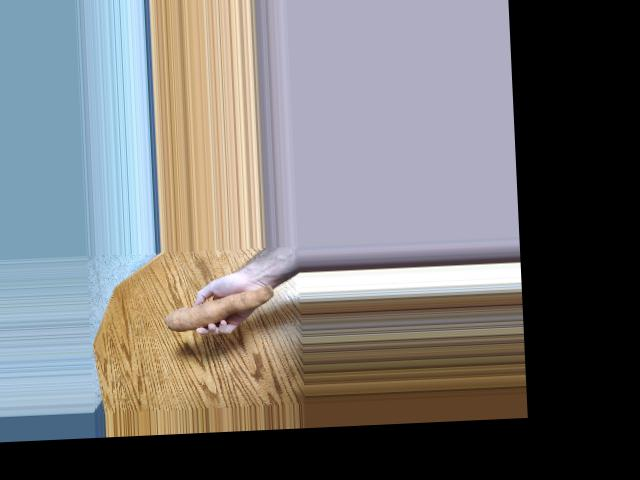sweet_potato: (161, 289, 270, 334)
